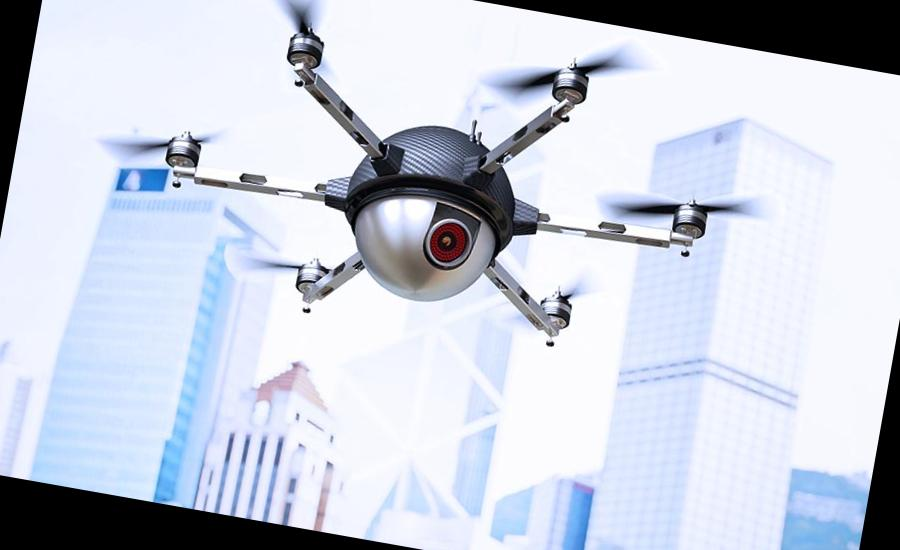drone: (104, 0, 780, 378)
